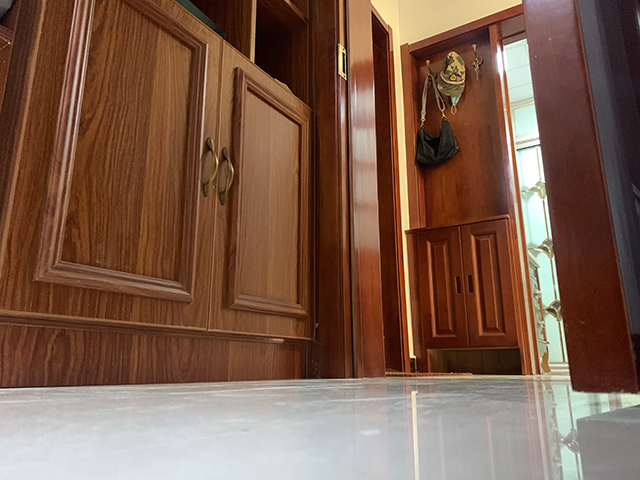cabinet: (1, 1, 315, 388), (404, 214, 531, 376)
carpet: (384, 368, 472, 378)
